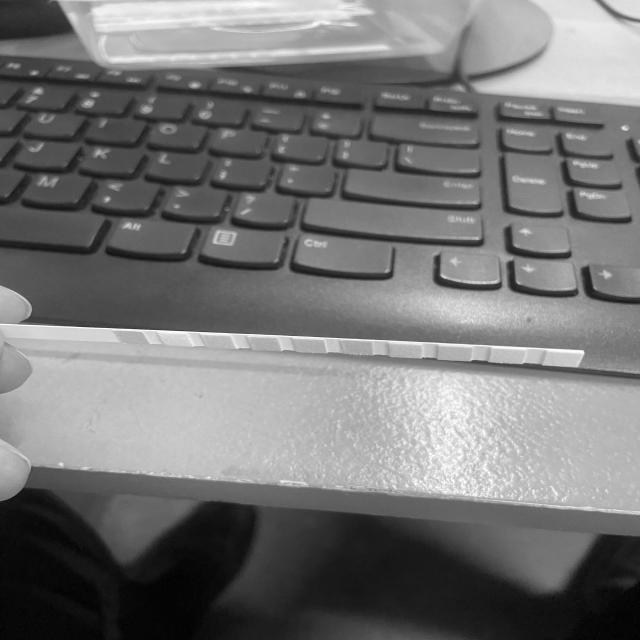Bilirubin: (168, 334, 186, 345)
Blood: (299, 339, 321, 352)
Glucose: (124, 332, 140, 343)
Ketone: (208, 336, 229, 348)
Leukocytes: (551, 354, 577, 365)
Nitrite: (496, 351, 520, 362)
Protein: (395, 346, 420, 356)
SpGravity: (253, 338, 276, 349)
Urobilinogen: (444, 348, 468, 359)
background: (0, 0, 640, 640)
pH: (345, 341, 368, 353)
strip: (8, 325, 584, 366)
